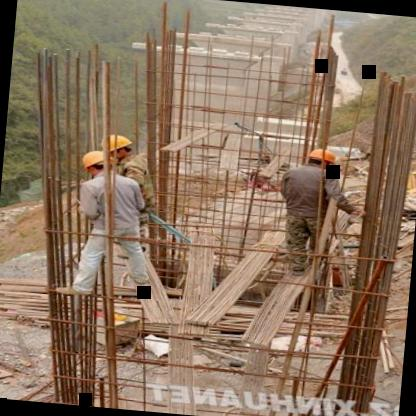helmet: (80, 148, 121, 180), (98, 132, 138, 161), (302, 146, 340, 174)
